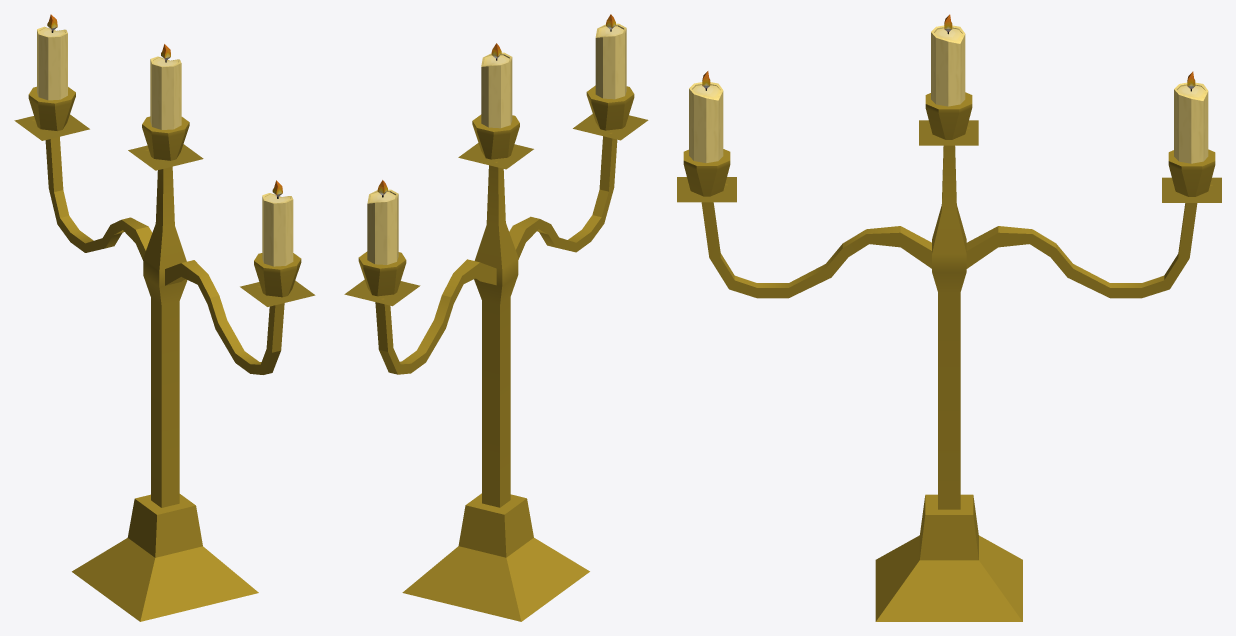
Rendered from Candles.fbx.
3 views of the same model, side by side, from view 1: azimuth 30°, elevation 25°; view 2: azimuth 150°, elevation 25°; view 3: azimuth 270°, elevation 25° (orthographic). The views are drawn at different scales.
Parts seen in each view (by area): view 1: M_Candelabra_MedievalDiningRoom_FinalScene2:blinn1_0; view 2: M_Candelabra_MedievalDiningRoom_FinalScene2:blinn1_0; view 3: M_Candelabra_MedievalDiningRoom_FinalScene2:blinn1_0.
Part boxes in pixels (left/top/right/bottom): M_Candelabra_MedievalDiningRoom_FinalScene2:blinn1_0: left=14, top=14, right=315, bottom=621; M_Candelabra_MedievalDiningRoom_FinalScene2:blinn1_0: left=344, top=14, right=648, bottom=621; M_Candelabra_MedievalDiningRoom_FinalScene2:blinn1_0: left=677, top=14, right=1221, bottom=621.
Bounding box in the file's own units: 3.5 × 15.14 × 12.96.
Materials: 2 (2 with a texture image).
